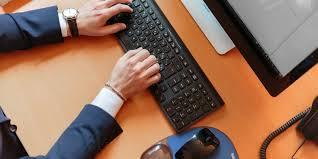keyboard: (106, 0, 225, 133)
